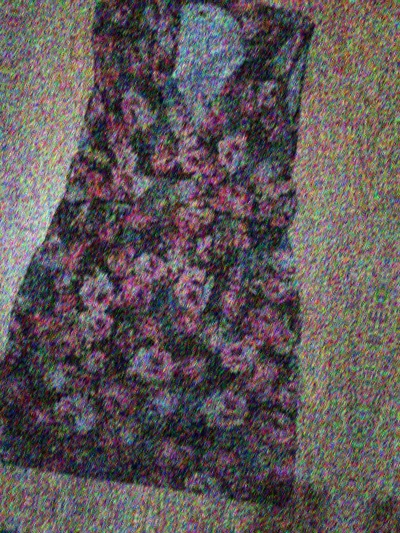Dress: (0, 0, 385, 514), (389, 23, 400, 533), (0, 525, 294, 533)
